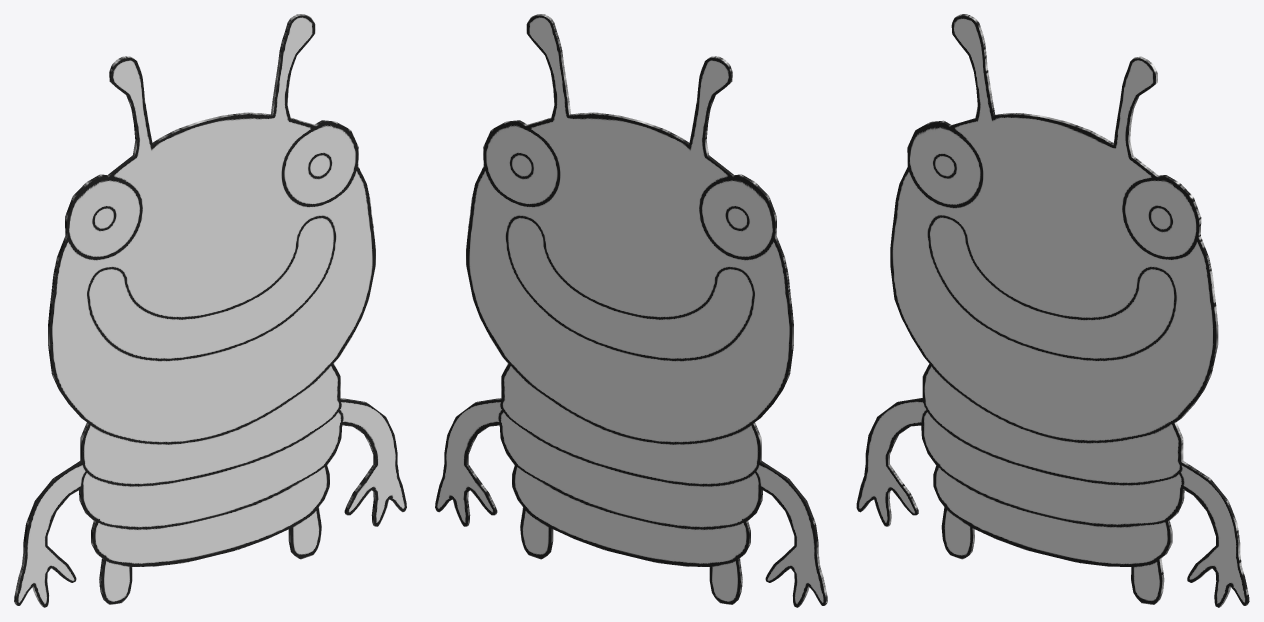
File: 36_tori.fbx
3 renders of one model, left to right at view 1: azimuth 30°, elevation 25°; view 2: azimuth 150°, elevation 25°; view 3: azimuth 330°, elevation 25°, orthographic.
Visible parts, largest first — view 1: pPlane1; view 2: pPlane1; view 3: pPlane1.
Part boxes in pixels (bbox=[...]): pPlane1: bbox=[14, 14, 406, 607]; pPlane1: bbox=[435, 14, 827, 607]; pPlane1: bbox=[856, 14, 1249, 607].
Size of the model in its own units: 24.43 by 32.51 by 0.2.
1 material, 1 textured.
